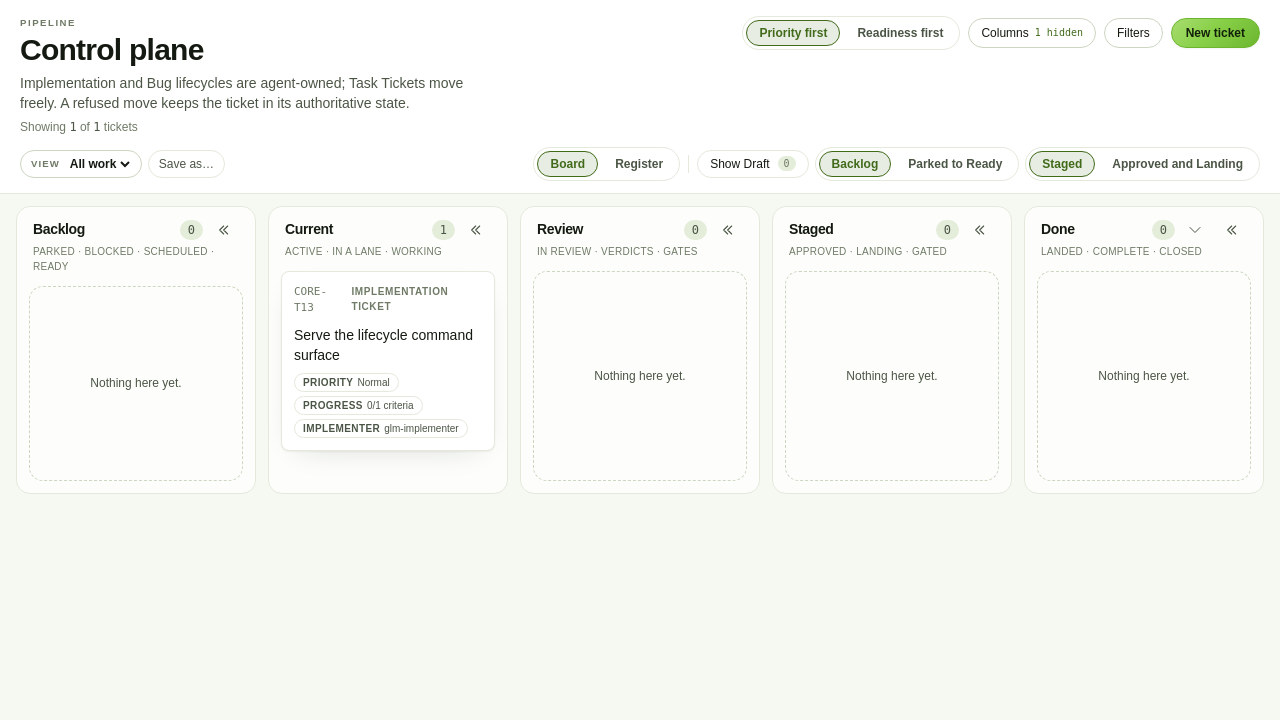
Test: the drawer footer actions › cancelling the recovery confirmation leaves the Ticket exactly as it stood
Click the button with test id "open-ticket-8".
click(388, 345)  # box [294,325,482,365]
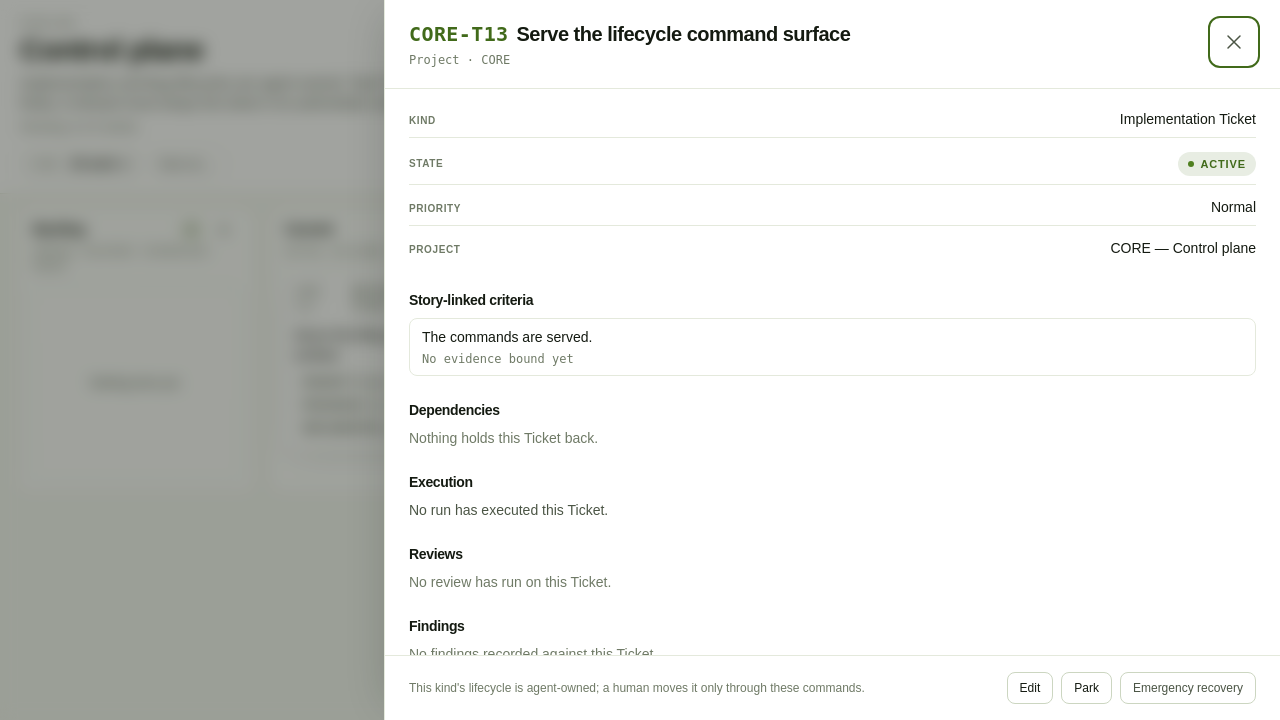
Click the button "Emergency recovery".
click(1188, 688)  # box [1120,672,1256,704]
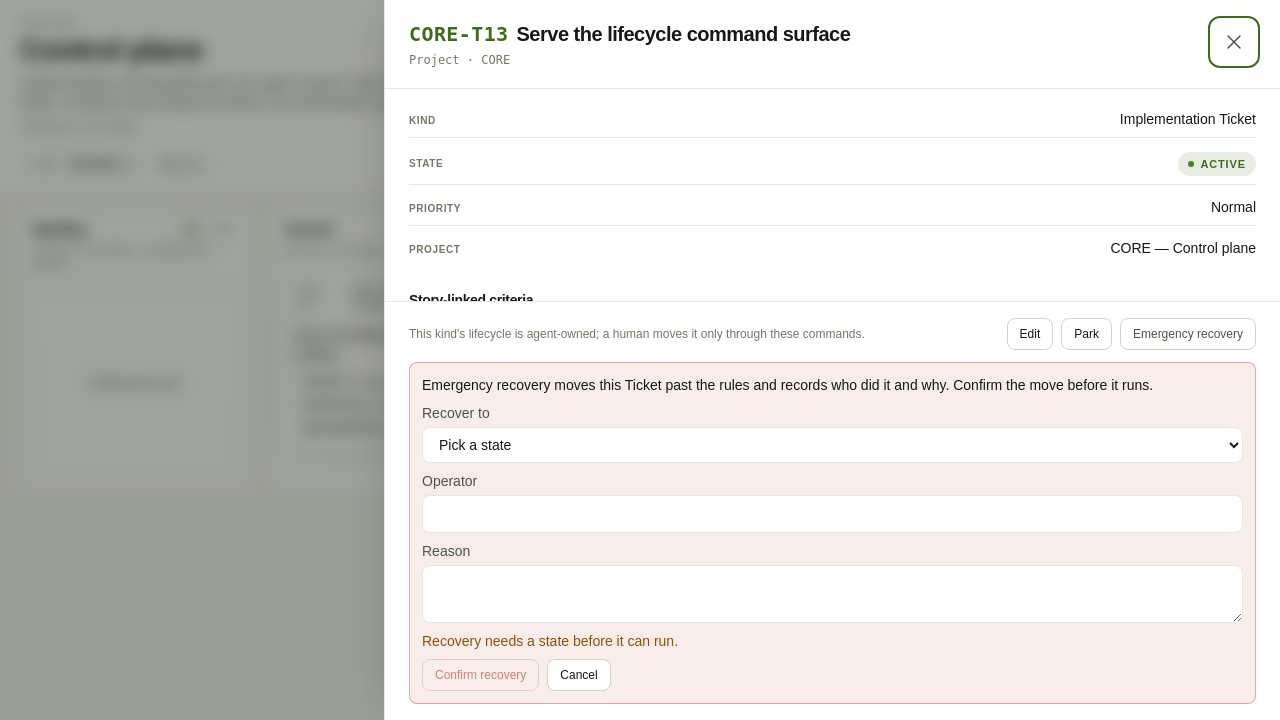
Select "Ready" in the dropdown labelled "Recover to" at (832, 445), box [422,427,1243,463]
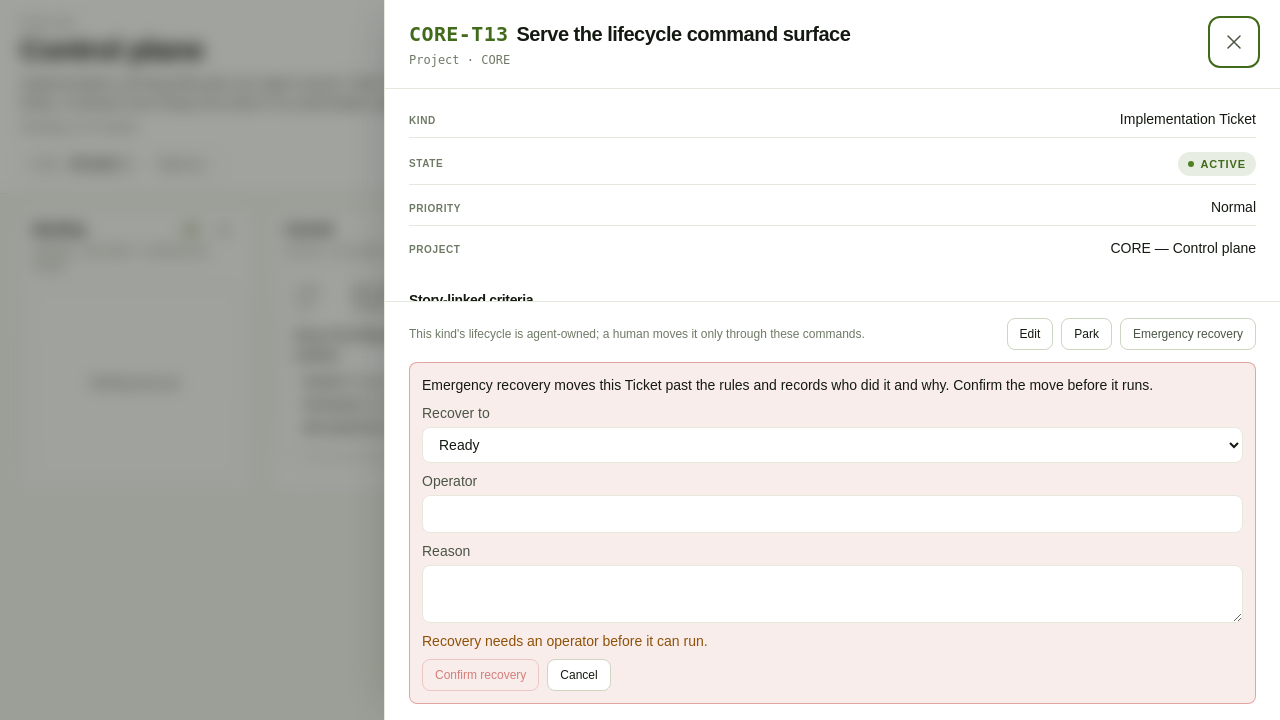
Type "Sid" into the field labelled "Operator".
click(832, 514); type("Sid")  # box [422,495,1243,533]
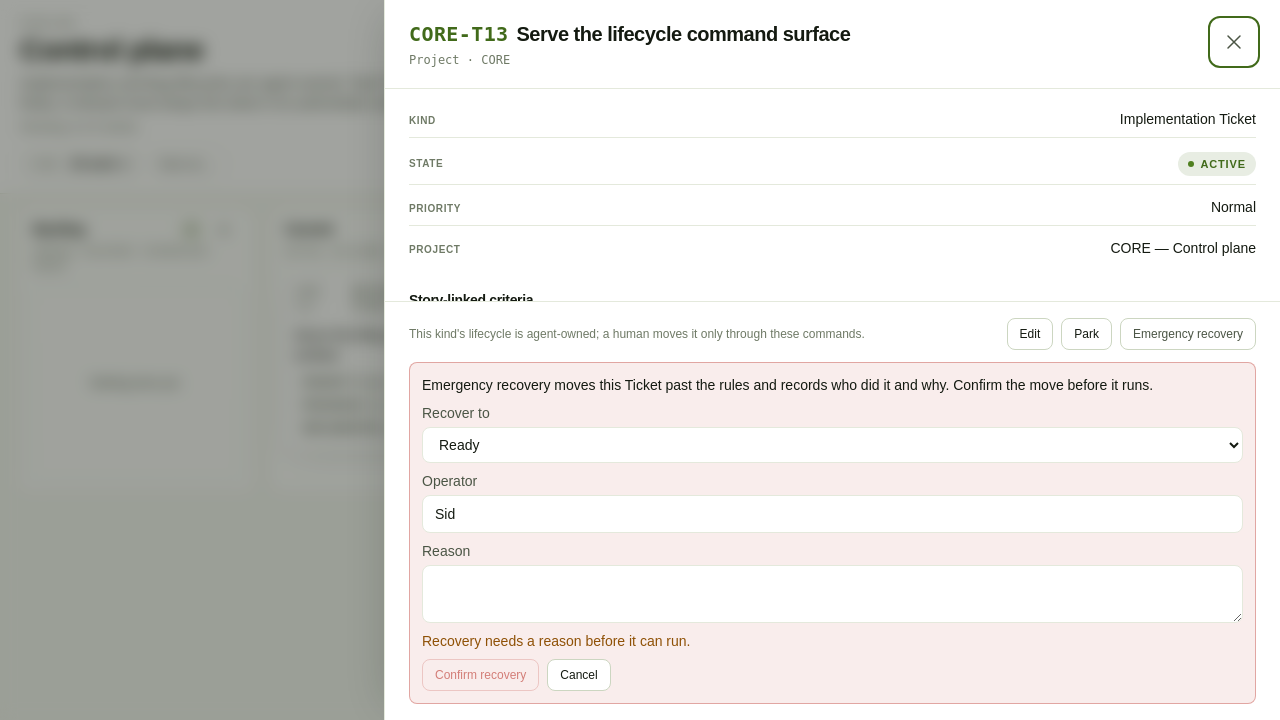
Type "The run died holding the lane." into the text box labelled "Reason".
click(832, 594); type("The run died holding the lane.")  # box [422,565,1243,623]
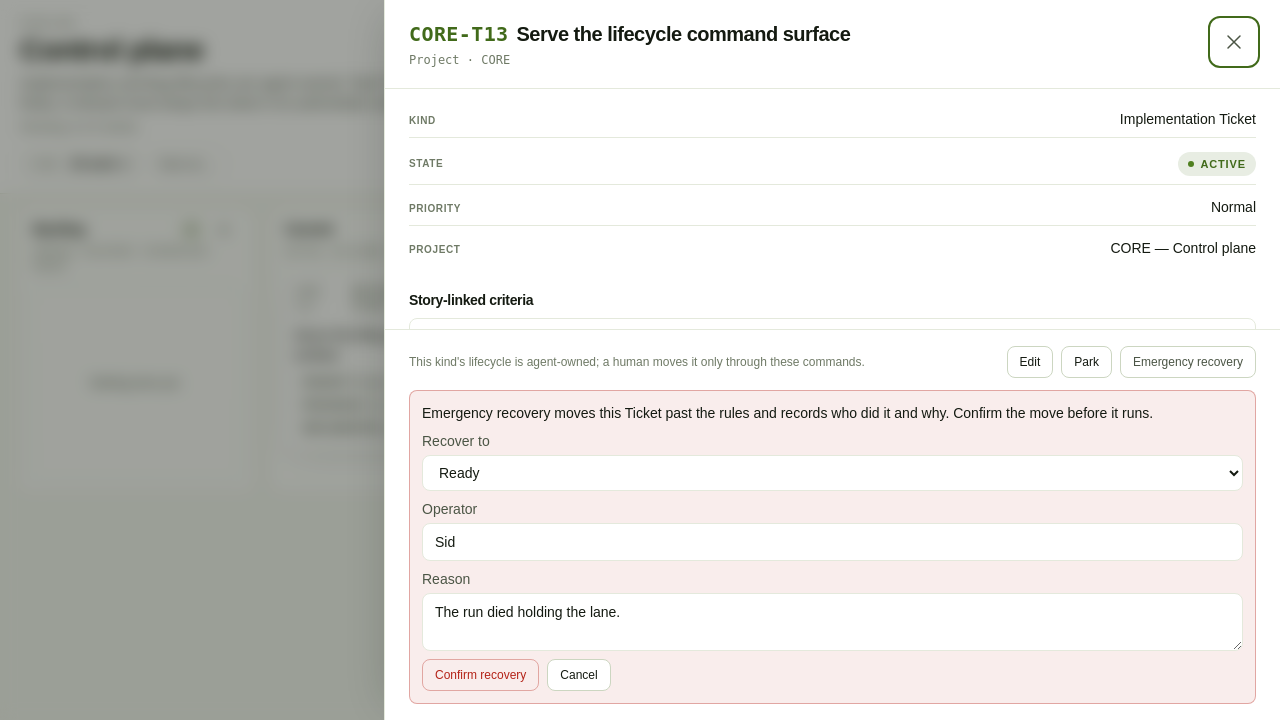
Click the button "Cancel".
click(579, 675)  # box [547,659,611,691]
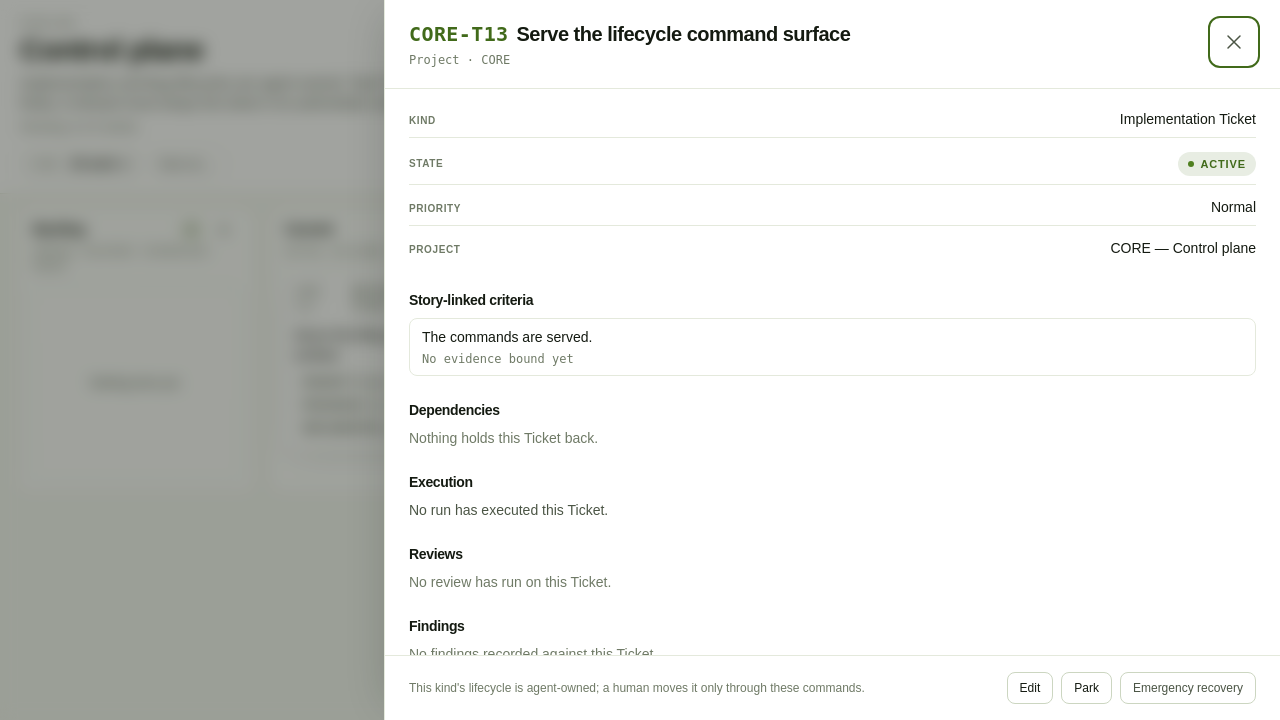
Expected: the element with test id "drawer-state" reads "Active", [1200,158,1246,170]
Expected: the form with test id "recovery-confirm" is gone
